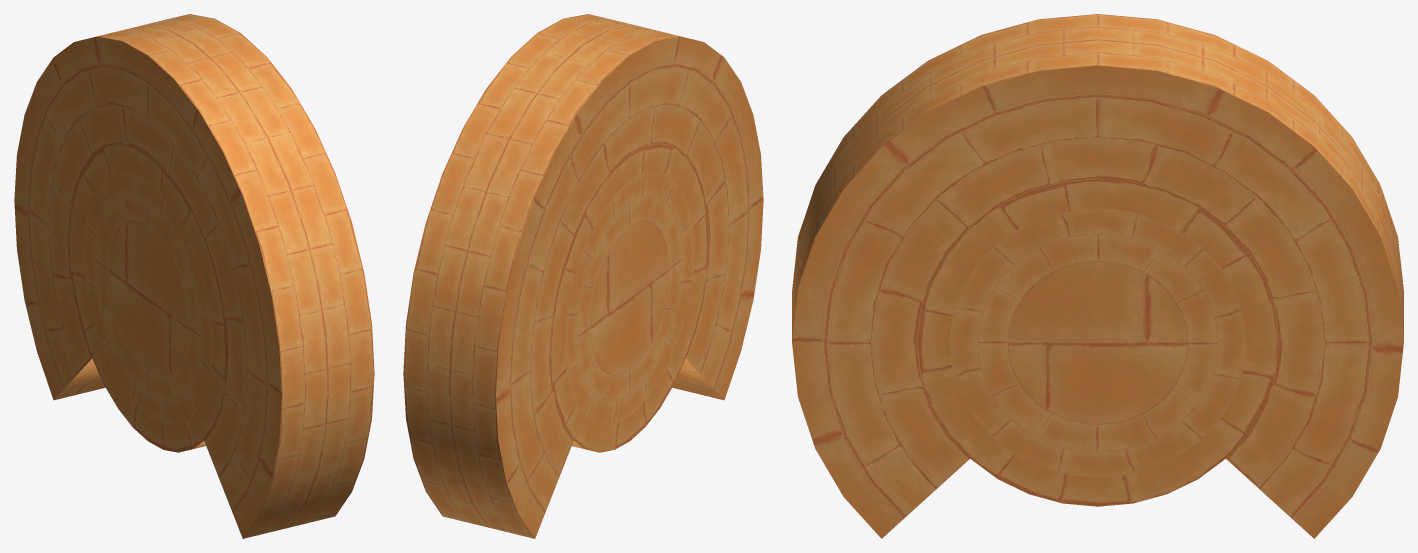
Rendered from temple-embelisher02.glb.
3 views of the same model, side by side, from view 1: azimuth 30°, elevation 25°; view 2: azimuth 150°, elevation 25°; view 3: azimuth 270°, elevation 25° (orthographic). The views are drawn at different scales.
Visible parts, largest first — view 1: TempleEmbelisher02_Art; view 2: TempleEmbelisher02_Art; view 3: TempleEmbelisher02_Art.
Part boxes in pixels (x1,y1,x2,y2): TempleEmbelisher02_Art: (14,14,374,538); TempleEmbelisher02_Art: (403,14,763,538); TempleEmbelisher02_Art: (792,14,1403,538).
Bounding box in the file's own units: 3.96 × 16.92 × 19.82.
Materials: 1 (1 with a texture image).
